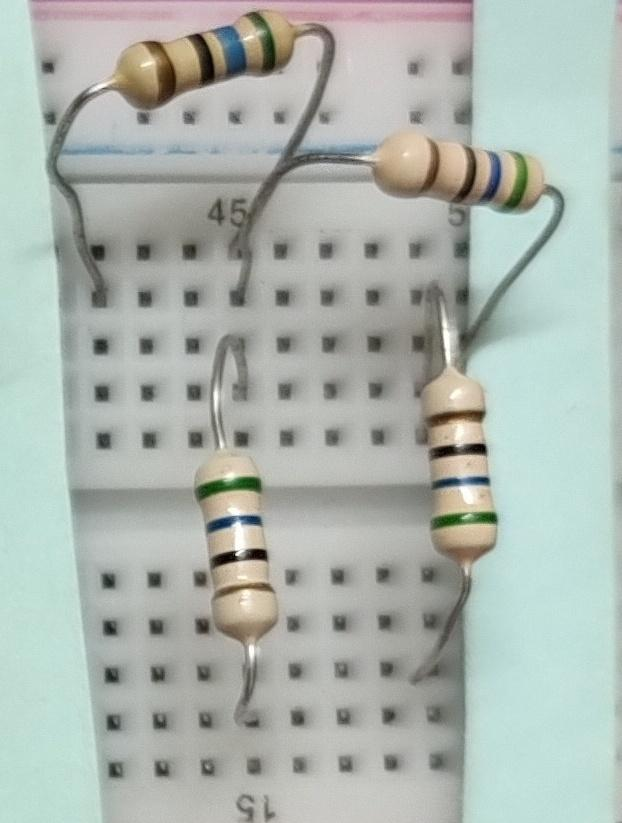resistor: (168, 440, 310, 652), (402, 360, 528, 554), (358, 116, 558, 234), (102, 6, 294, 112)
